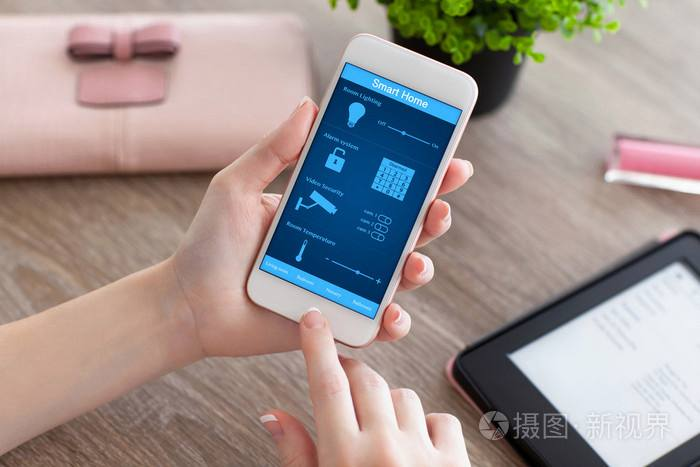reading: (144, 26, 480, 464)
